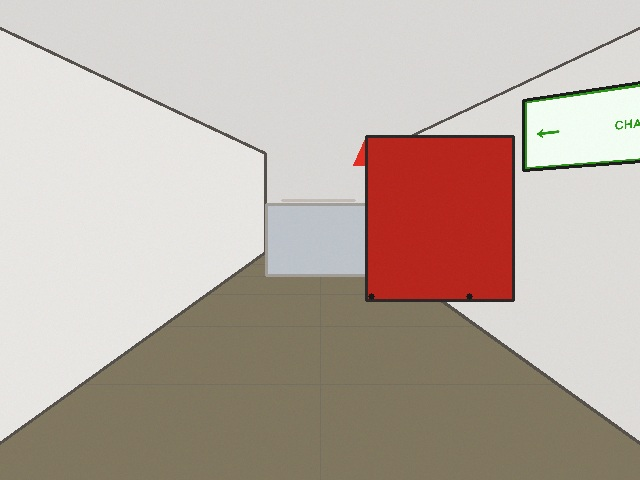cart: (353, 136, 513, 300)
directional_sign: (523, 74, 639, 170)
hospital_bed: (266, 204, 368, 275)
